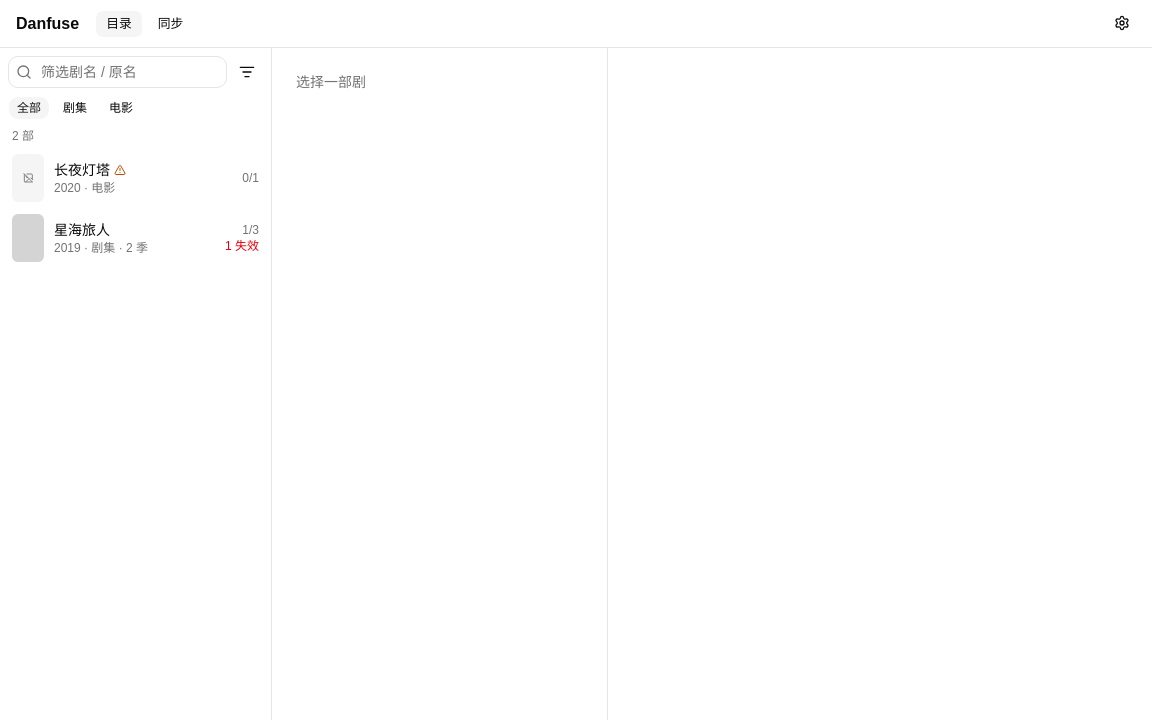
Scenario: CatalogView › 剧列表筛选条件：只看没有 TMDB ID 的，与只看追更中同时生效
The width and height of the screenshot is (1152, 720).
Expected: the text "2 部" is shown, top-left (12, 129), bottom-right (34, 143)
Click the button named "筛选条件".
click(247, 72)  # box top-left (231, 56), bottom-right (263, 88)
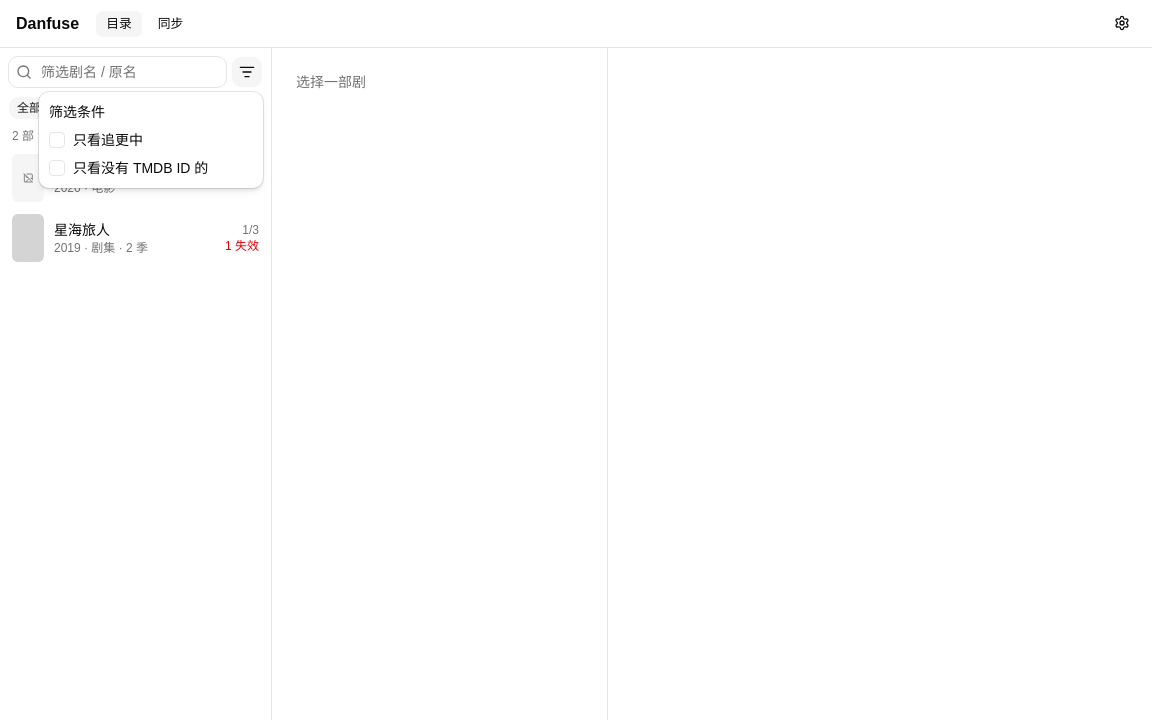
Click the checkbox named "只看没有 TMDB ID 的" next to "只看没有 TMDB ID 的".
click(57, 168)  # box top-left (49, 160), bottom-right (65, 176)
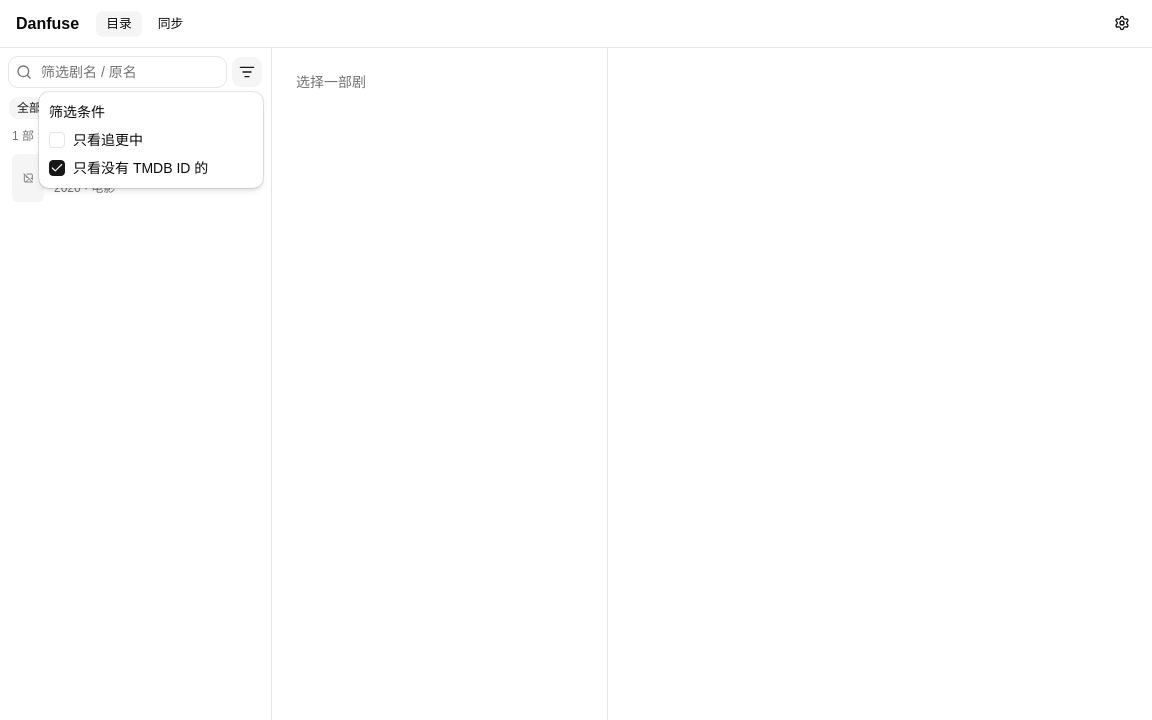
Expected: the link "长夜灯塔 2020 · 电影 0/1" is shown, top-left (0, 148), bottom-right (271, 208)
Expected: the text "1 部" is shown, top-left (12, 129), bottom-right (34, 143)
Expected: the link "星海旅人" is gone
Click the checkbox named "只看追更中" next to "只看追更中".
click(57, 140)  # box top-left (49, 132), bottom-right (65, 148)
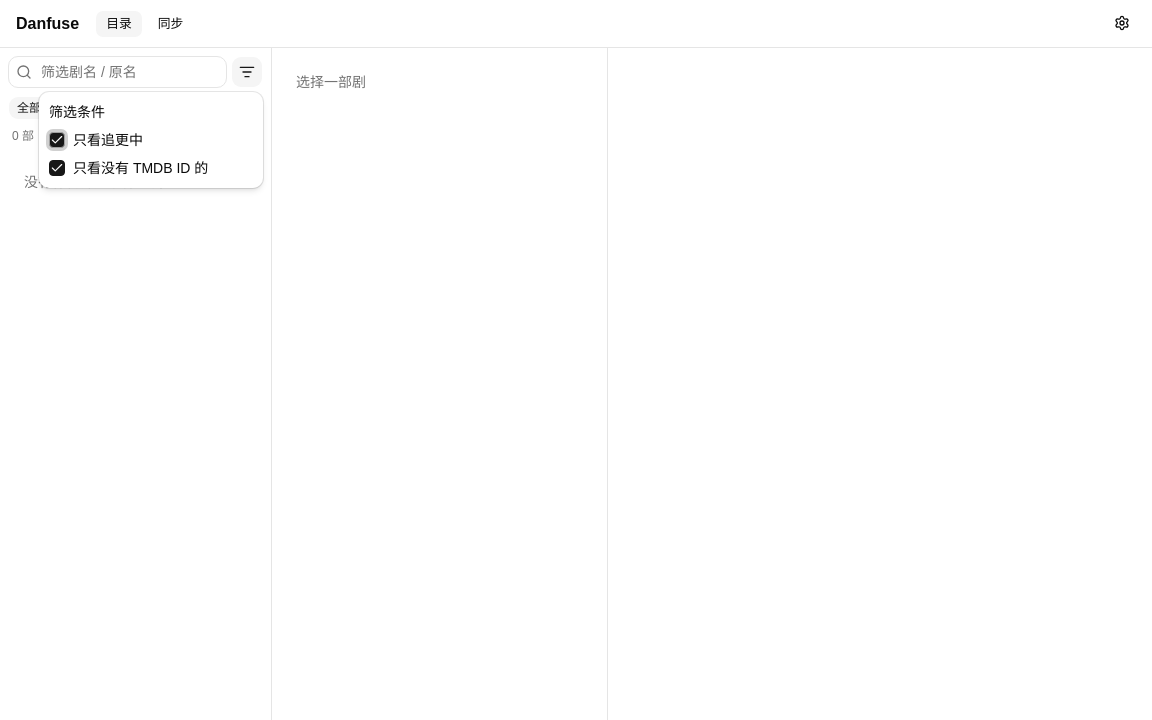
Expected: the text "没有符合筛选条件的剧" is shown, top-left (24, 174), bottom-right (164, 190)
